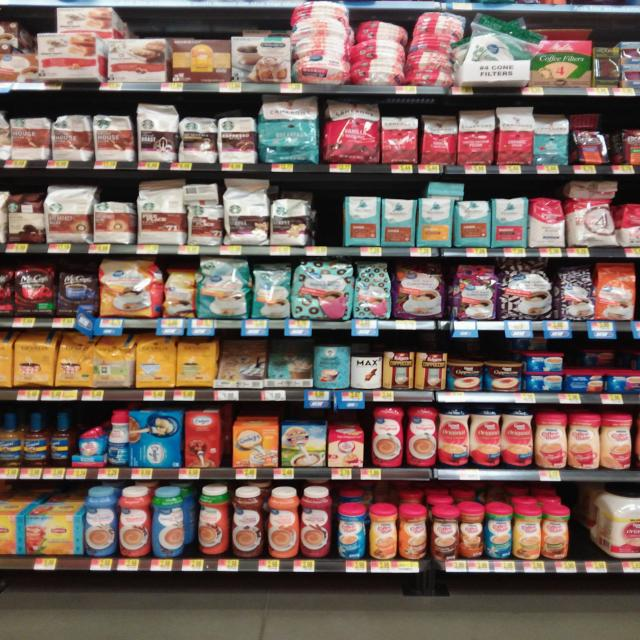100- O.O.S: (318, 186, 342, 256), (570, 499, 593, 572)
